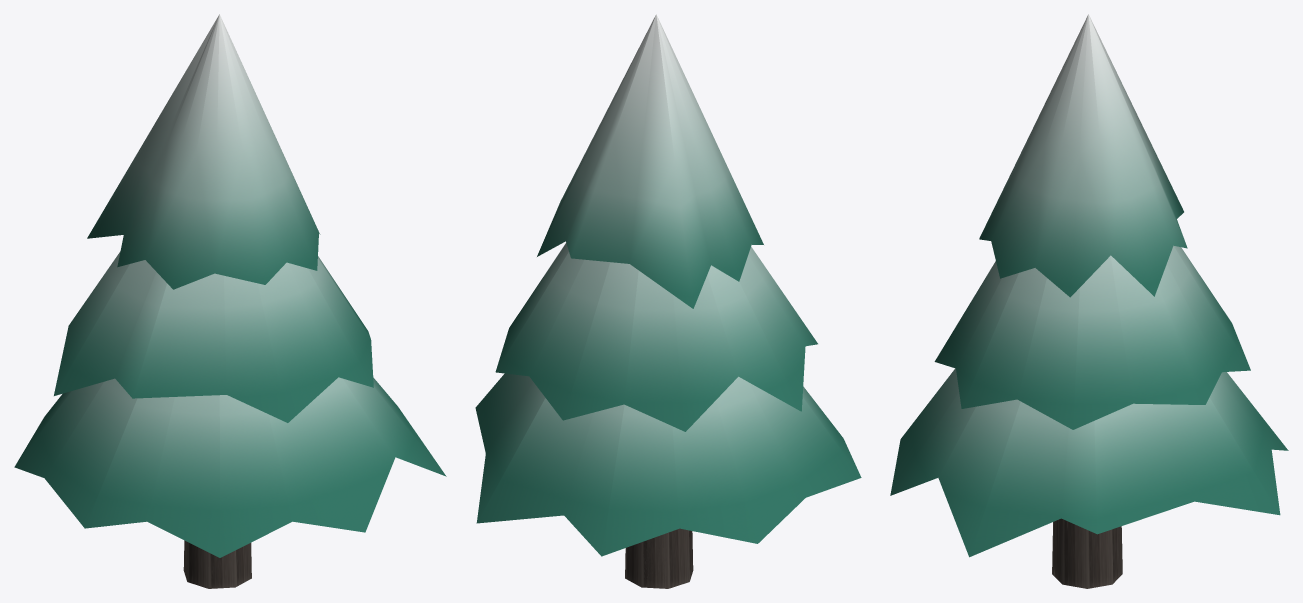
File: Snow pine tree.fbx
3 renders of one model, left to right at view 1: azimuth 30°, elevation 25°; view 2: azimuth 150°, elevation 25°; view 3: azimuth 270°, elevation 25°, orthographic.
Parts seen in each view (by area): view 1: Snow Pine tree (textured); view 2: Snow Pine tree (textured); view 3: Snow Pine tree (textured).
Boxes of the visible parts, <box> form: Snow Pine tree (textured): <box>14,14,446,588</box>; Snow Pine tree (textured): <box>475,14,861,588</box>; Snow Pine tree (textured): <box>890,14,1288,588</box>.
Bounding box in the file's own units: 26.57 × 41.06 × 26.42.
